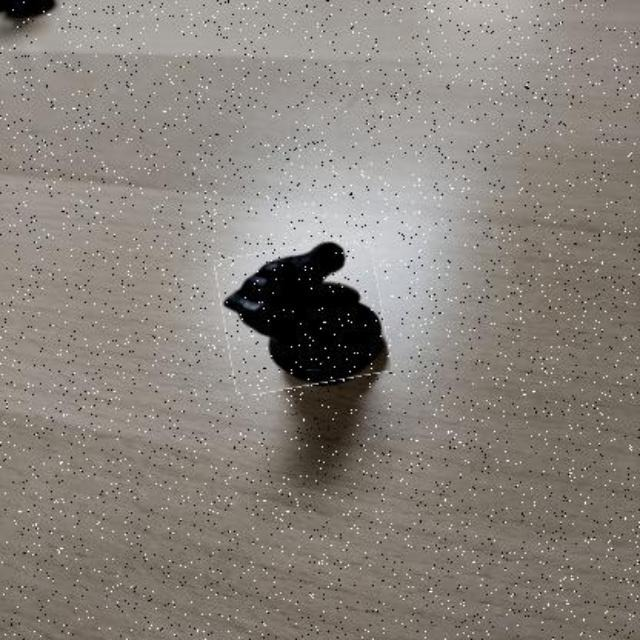black-knight: (219, 240, 386, 390)
